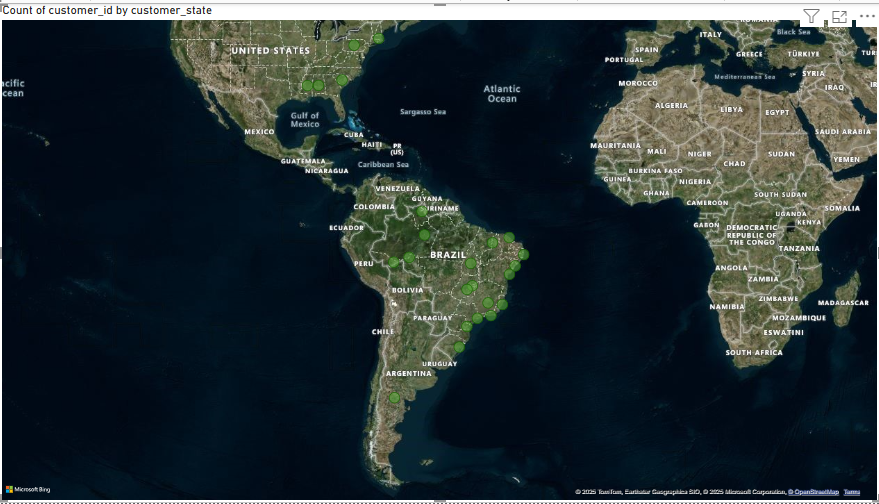

Layout of this report page (visuals, bound fields, positions):
{"tool":"powerbi","page":{"name":"Map Visual","canvas":[1280,720],"ordinal":5},"visuals":[{"type":"map","fields":{"Category":["customers.customer_state"]},"box":[10.1,0,1270.1,720],"z":0}]}

Visuals, with their boxes in screenshot pixels (x1, y1, x2, y2), scaled from the page's 1280x720 canvas onto the 879x504 screenshot:
map - customers.customer_state: 7,0,878,503
